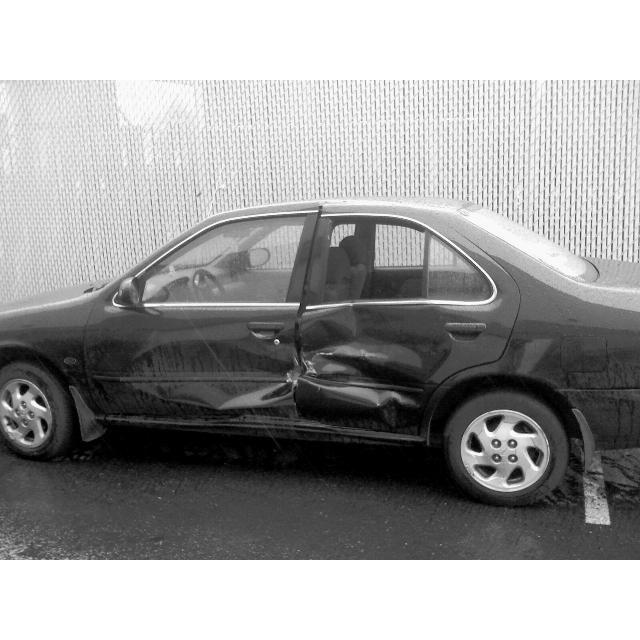doorouter-dent: (89, 313, 297, 427), (295, 312, 449, 438)
